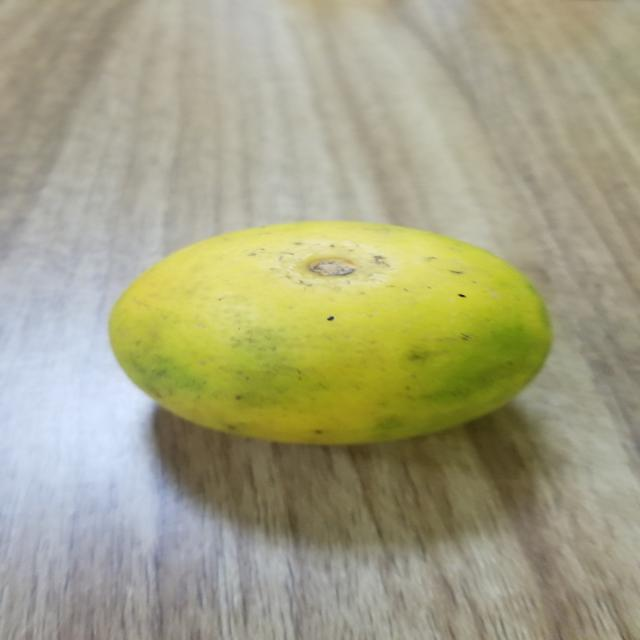Ripe orange: (111, 214, 552, 448)
